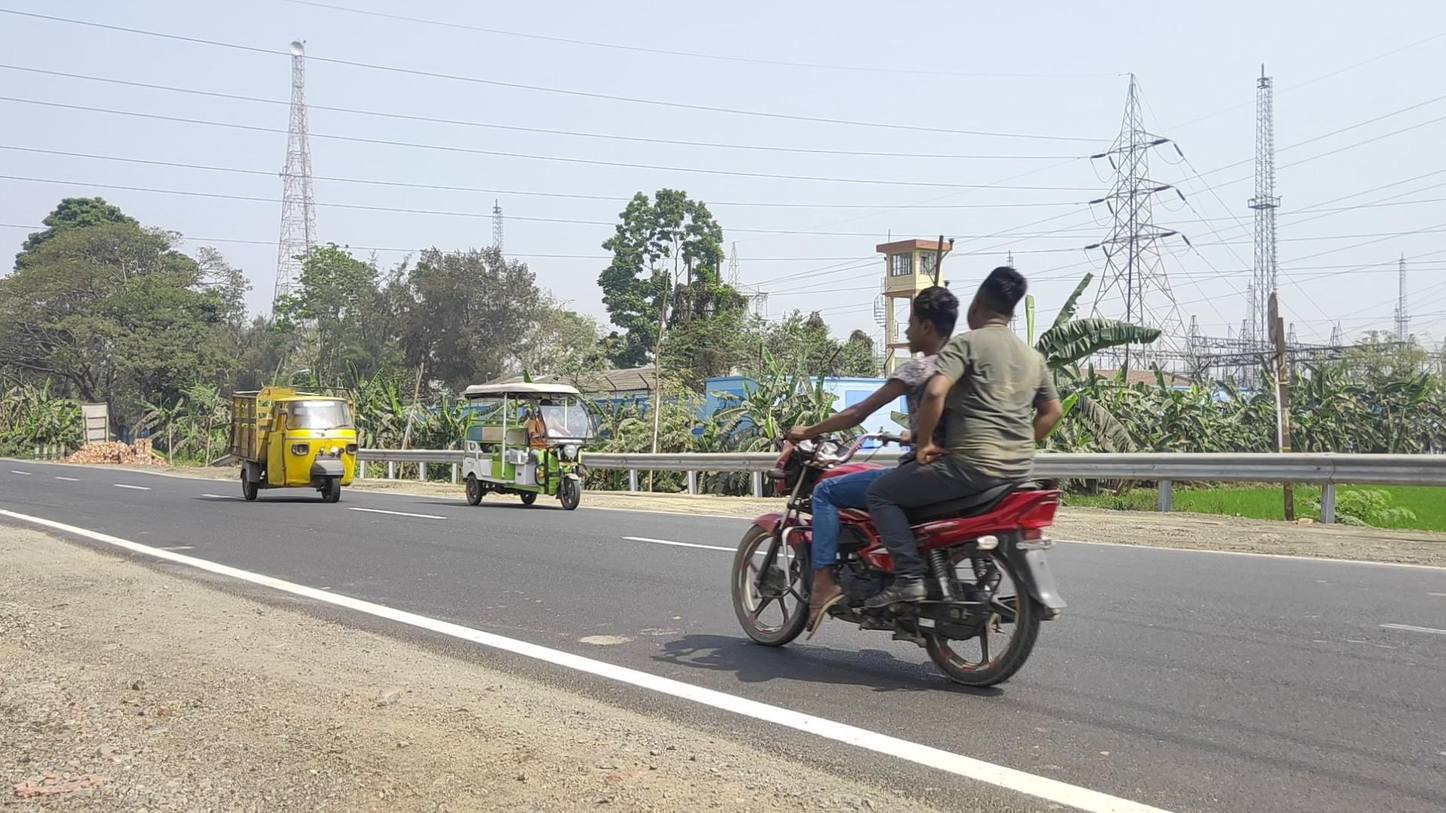Auto: (461, 383, 599, 510)
bike: (730, 268, 1068, 687)
van: (229, 385, 358, 503)
